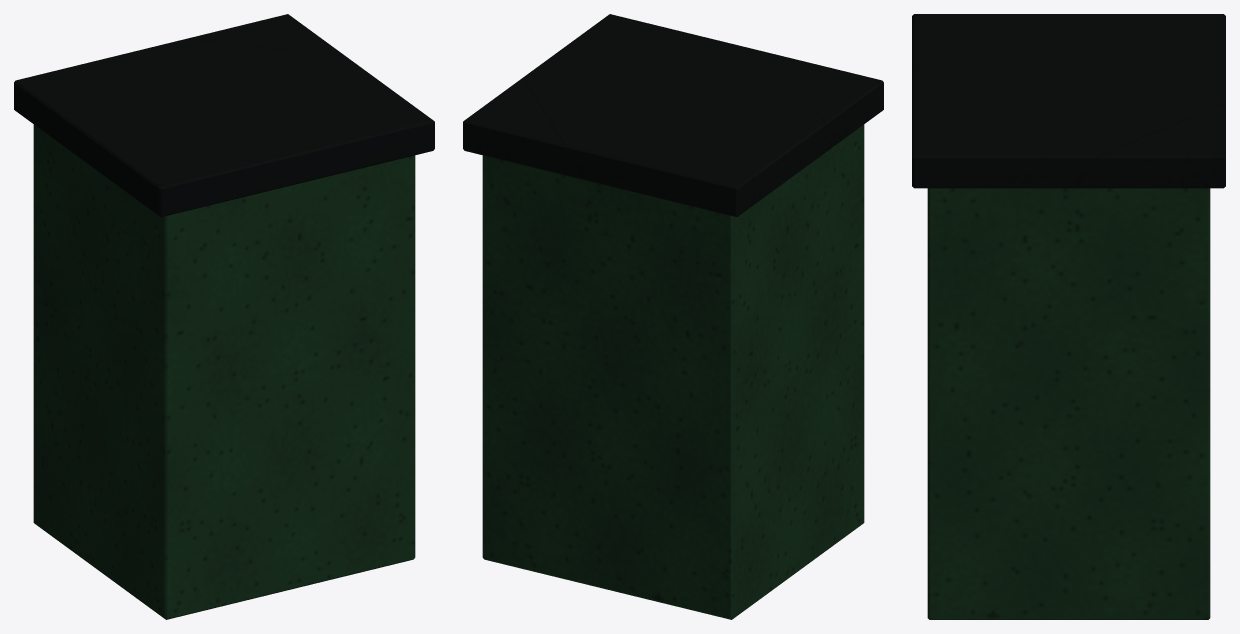
Rendered from PROP-193FC185D553_lod1.glb.
3 views of the same model, side by side, from view 1: azimuth 30°, elevation 25°; view 2: azimuth 150°, elevation 25°; view 3: azimuth 270°, elevation 25° (orthographic). The views are drawn at different scales.
Visible parts, largest first — view 1: waste_container.004, bin_lid.004; view 2: waste_container.004, bin_lid.004; view 3: waste_container.004, bin_lid.004.
Boxes of the visible parts, x1,y1,x2,y2 form: waste_container.004: [33, 124, 415, 619]; bin_lid.004: [14, 14, 434, 217]; waste_container.004: [482, 124, 864, 619]; bin_lid.004: [463, 14, 883, 217]; waste_container.004: [927, 188, 1210, 619]; bin_lid.004: [912, 14, 1225, 188].
Size of the model in its own units: 0.66 by 1.01 by 0.61.
3 materials, 3 textured.
